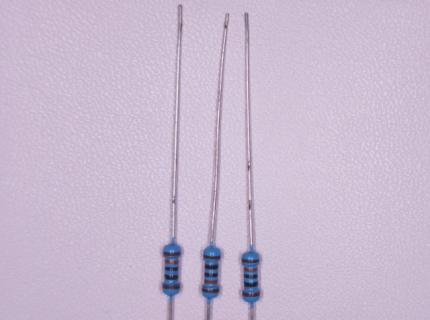Black band: (244, 274, 258, 279), (245, 282, 258, 287), (205, 265, 218, 269), (165, 267, 178, 271), (205, 273, 218, 277), (166, 275, 178, 279)
Brown band: (203, 288, 219, 294), (204, 255, 220, 260), (163, 284, 179, 289), (243, 292, 259, 297), (242, 259, 260, 263), (164, 252, 180, 255)
Orange band: (165, 260, 179, 264), (205, 280, 218, 284), (245, 268, 258, 272)
